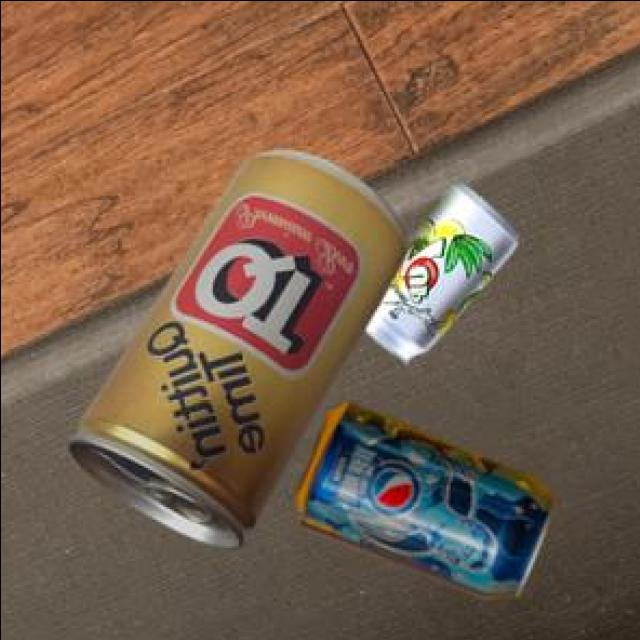logam: (64, 152, 401, 550), (293, 405, 548, 600), (360, 187, 514, 364)
